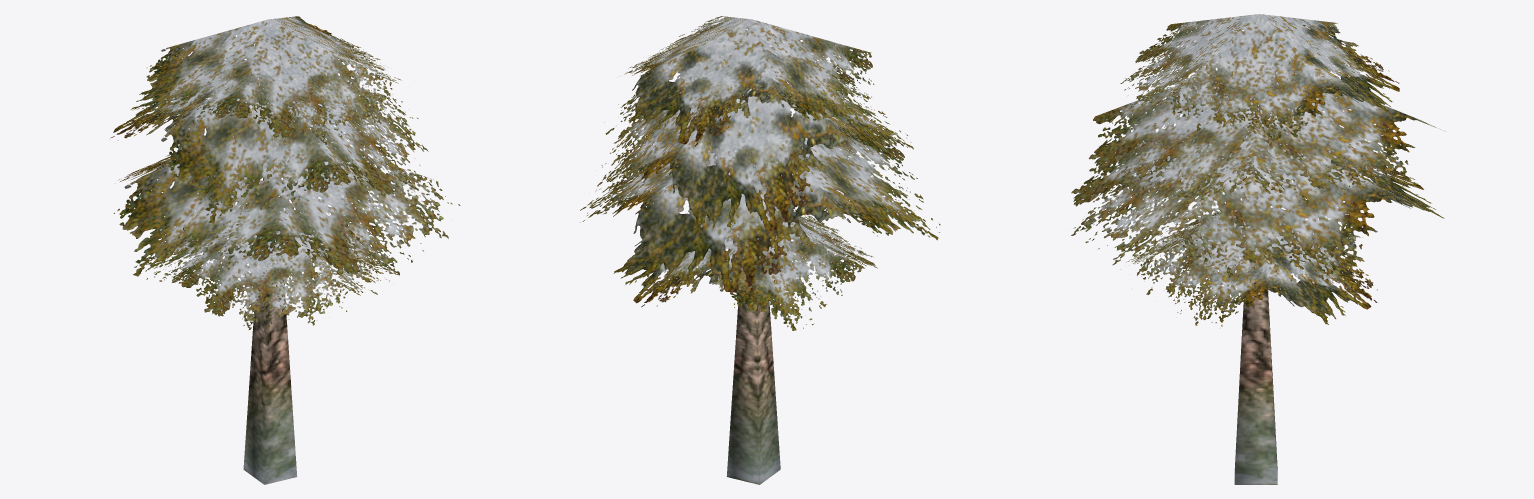
The model's file is tree2.dae.
The picture shows the model from 3 angles, left to right: view 1: azimuth 30°, elevation 25°; view 2: azimuth 150°, elevation 25°; view 3: azimuth 270°, elevation 25°; orthographic projection. The views are drawn at different scales.
Parts seen in each view (by area): view 1: Untitled; view 2: Untitled; view 3: Untitled.
Boxes of the visible parts, bbox=[...] form: Untitled: bbox=[110, 16, 460, 484]; Untitled: bbox=[580, 16, 940, 484]; Untitled: bbox=[1071, 14, 1444, 484].
Size of the model in its own units: 4.06 by 4.42 by 4.33.
1 material, 1 textured.
